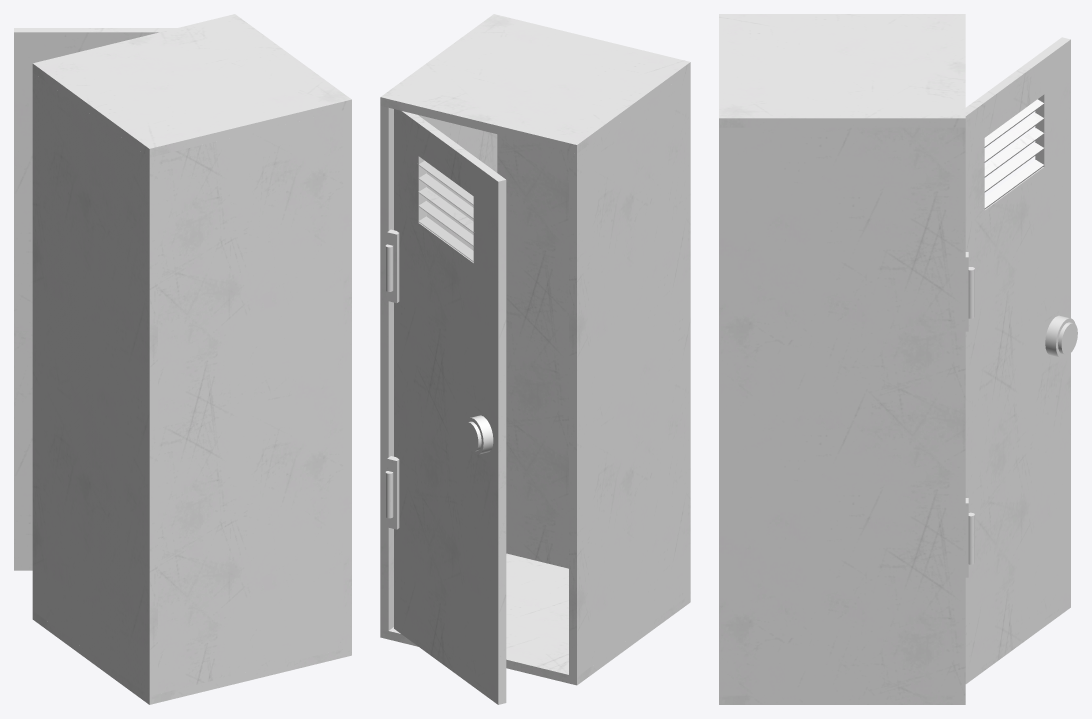
The model's file is InteractableLocker.obj.
3 renders of one model, left to right at view 1: azimuth 30°, elevation 25°; view 2: azimuth 150°, elevation 25°; view 3: azimuth 270°, elevation 25°, orthographic. The views are drawn at different scales.
Parts seen in each view (by area): view 1: Part6, Part4, Part5, Part11, Part20, Part17, Part1, Part18; view 2: Part4, Part11, Part6, Part5, Part1, Part20, Part17, Part19, Part18, Part8, Part2, Part14 (+5 smaller); view 3: Part20, Part11, Part5, Part17, Part18, Part1, Part19, Part12, Part13, Part14, Part15, Part9 (+1 smaller).
Part boxes in pixels (x1,y1,x2,y2): Part6: (158, 110, 343, 693); Part4: (32, 72, 157, 695); Part5: (32, 14, 351, 157); Part11: (14, 136, 32, 570); Part20: (343, 108, 351, 648); Part17: (14, 28, 64, 136); Part1: (32, 611, 351, 704); Part18: (64, 28, 176, 55); Part4: (569, 71, 690, 676); Part11: (394, 205, 506, 704); Part6: (497, 134, 568, 568); Part5: (380, 14, 690, 153); Part1: (380, 553, 690, 685); Part20: (380, 105, 497, 630); Part17: (473, 161, 506, 281); Part19: (394, 109, 426, 224); Part18: (418, 121, 481, 195); Part8: (387, 229, 399, 303); Part2: (387, 456, 399, 529); Part14: (418, 187, 474, 232); Part20: (719, 127, 965, 695); Part11: (965, 147, 1070, 683); Part5: (719, 14, 965, 127); Part17: (1035, 37, 1070, 166); Part18: (976, 57, 1044, 137); Part1: (719, 695, 965, 704); Part19: (965, 100, 984, 225); Part12: (984, 160, 1044, 209); Part13: (984, 143, 1043, 192); Part14: (984, 128, 1043, 177); Part15: (984, 113, 1043, 162); Part9: (1045, 315, 1075, 358).
Bounding box in the file's own units: 6 × 15.75 × 8.73.
